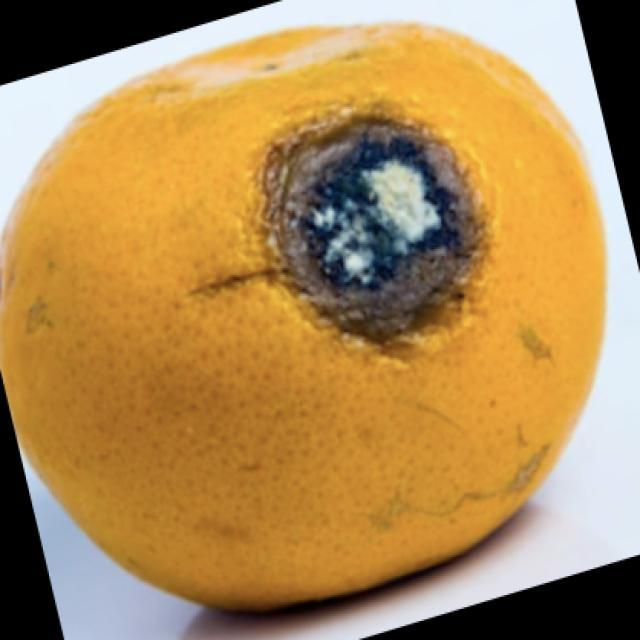sedikit-busuk: (0, 24, 604, 606), (264, 115, 486, 344)
